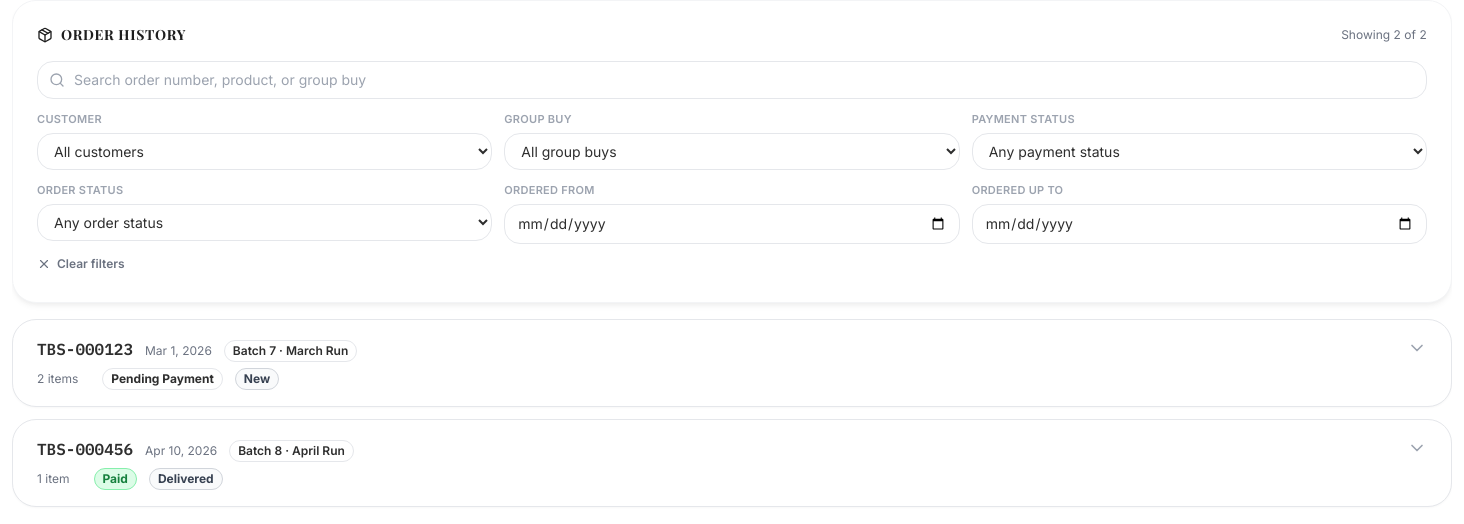
OrderHistoryPanel › filters by order status
Select "Delivered" in the dropdown labelled "Order status" at (265,222), box x1=37 y1=204 x2=492 y2=241
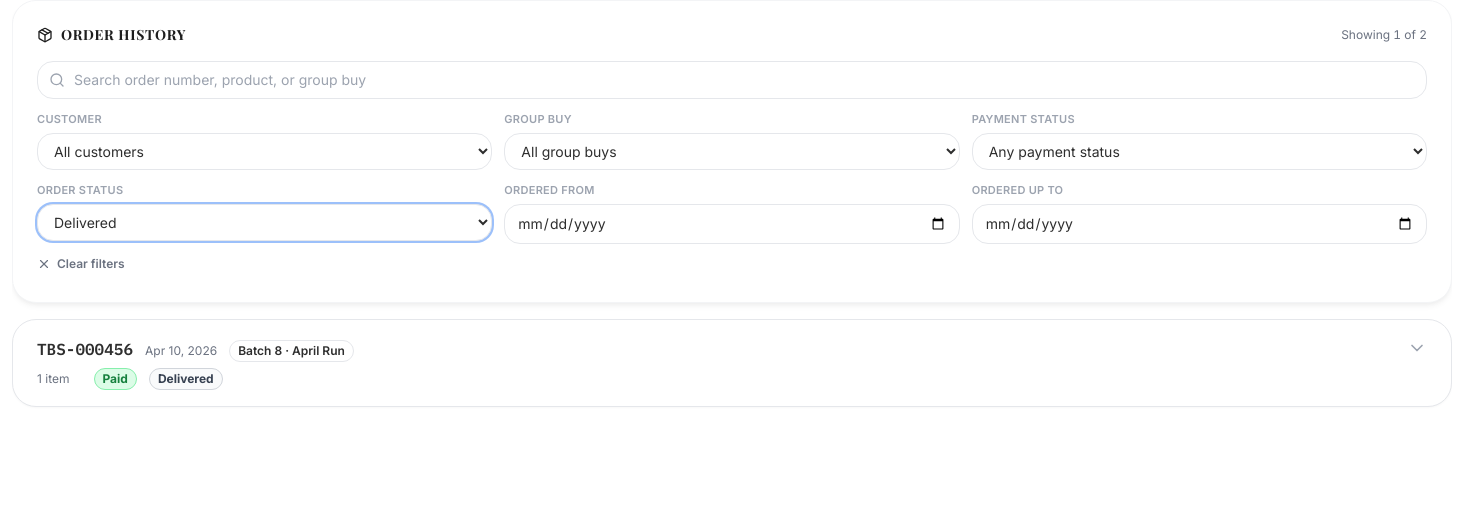
Expected: the button "TBS-000456" is shown, x1=13 y1=320 x2=1451 y2=406
Now the button "TBS-000123" is gone
